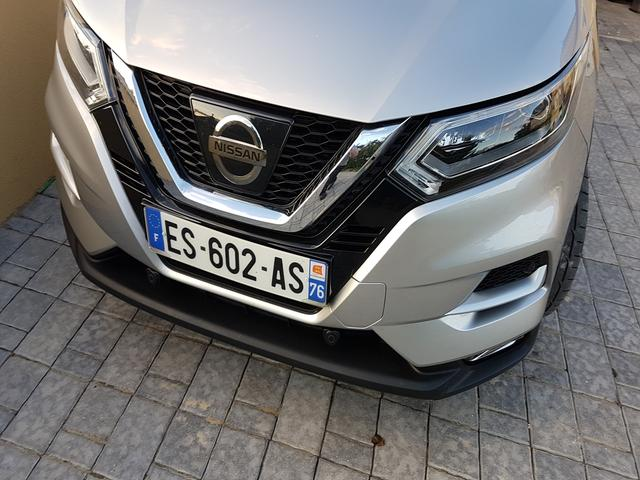Quashquai: (125, 179, 350, 333)
